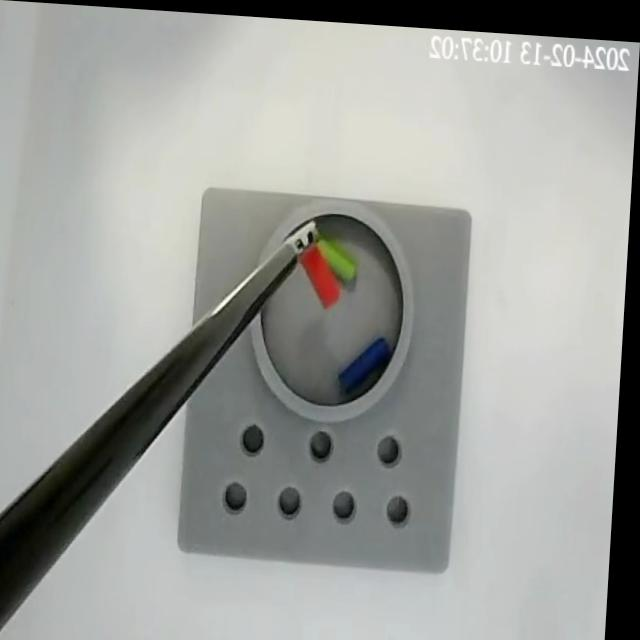EmptyHole: (244, 414, 272, 454), (313, 422, 340, 460), (382, 425, 409, 461), (338, 481, 364, 518), (228, 476, 254, 512), (391, 487, 418, 521), (283, 481, 309, 515)
